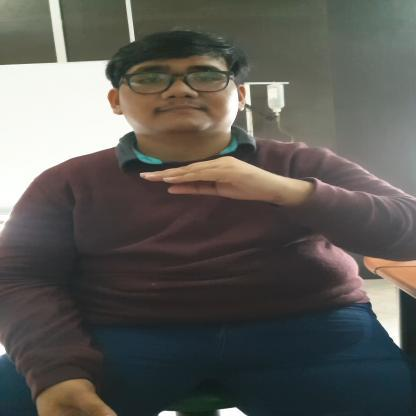Pagi: (135, 155, 305, 205)
